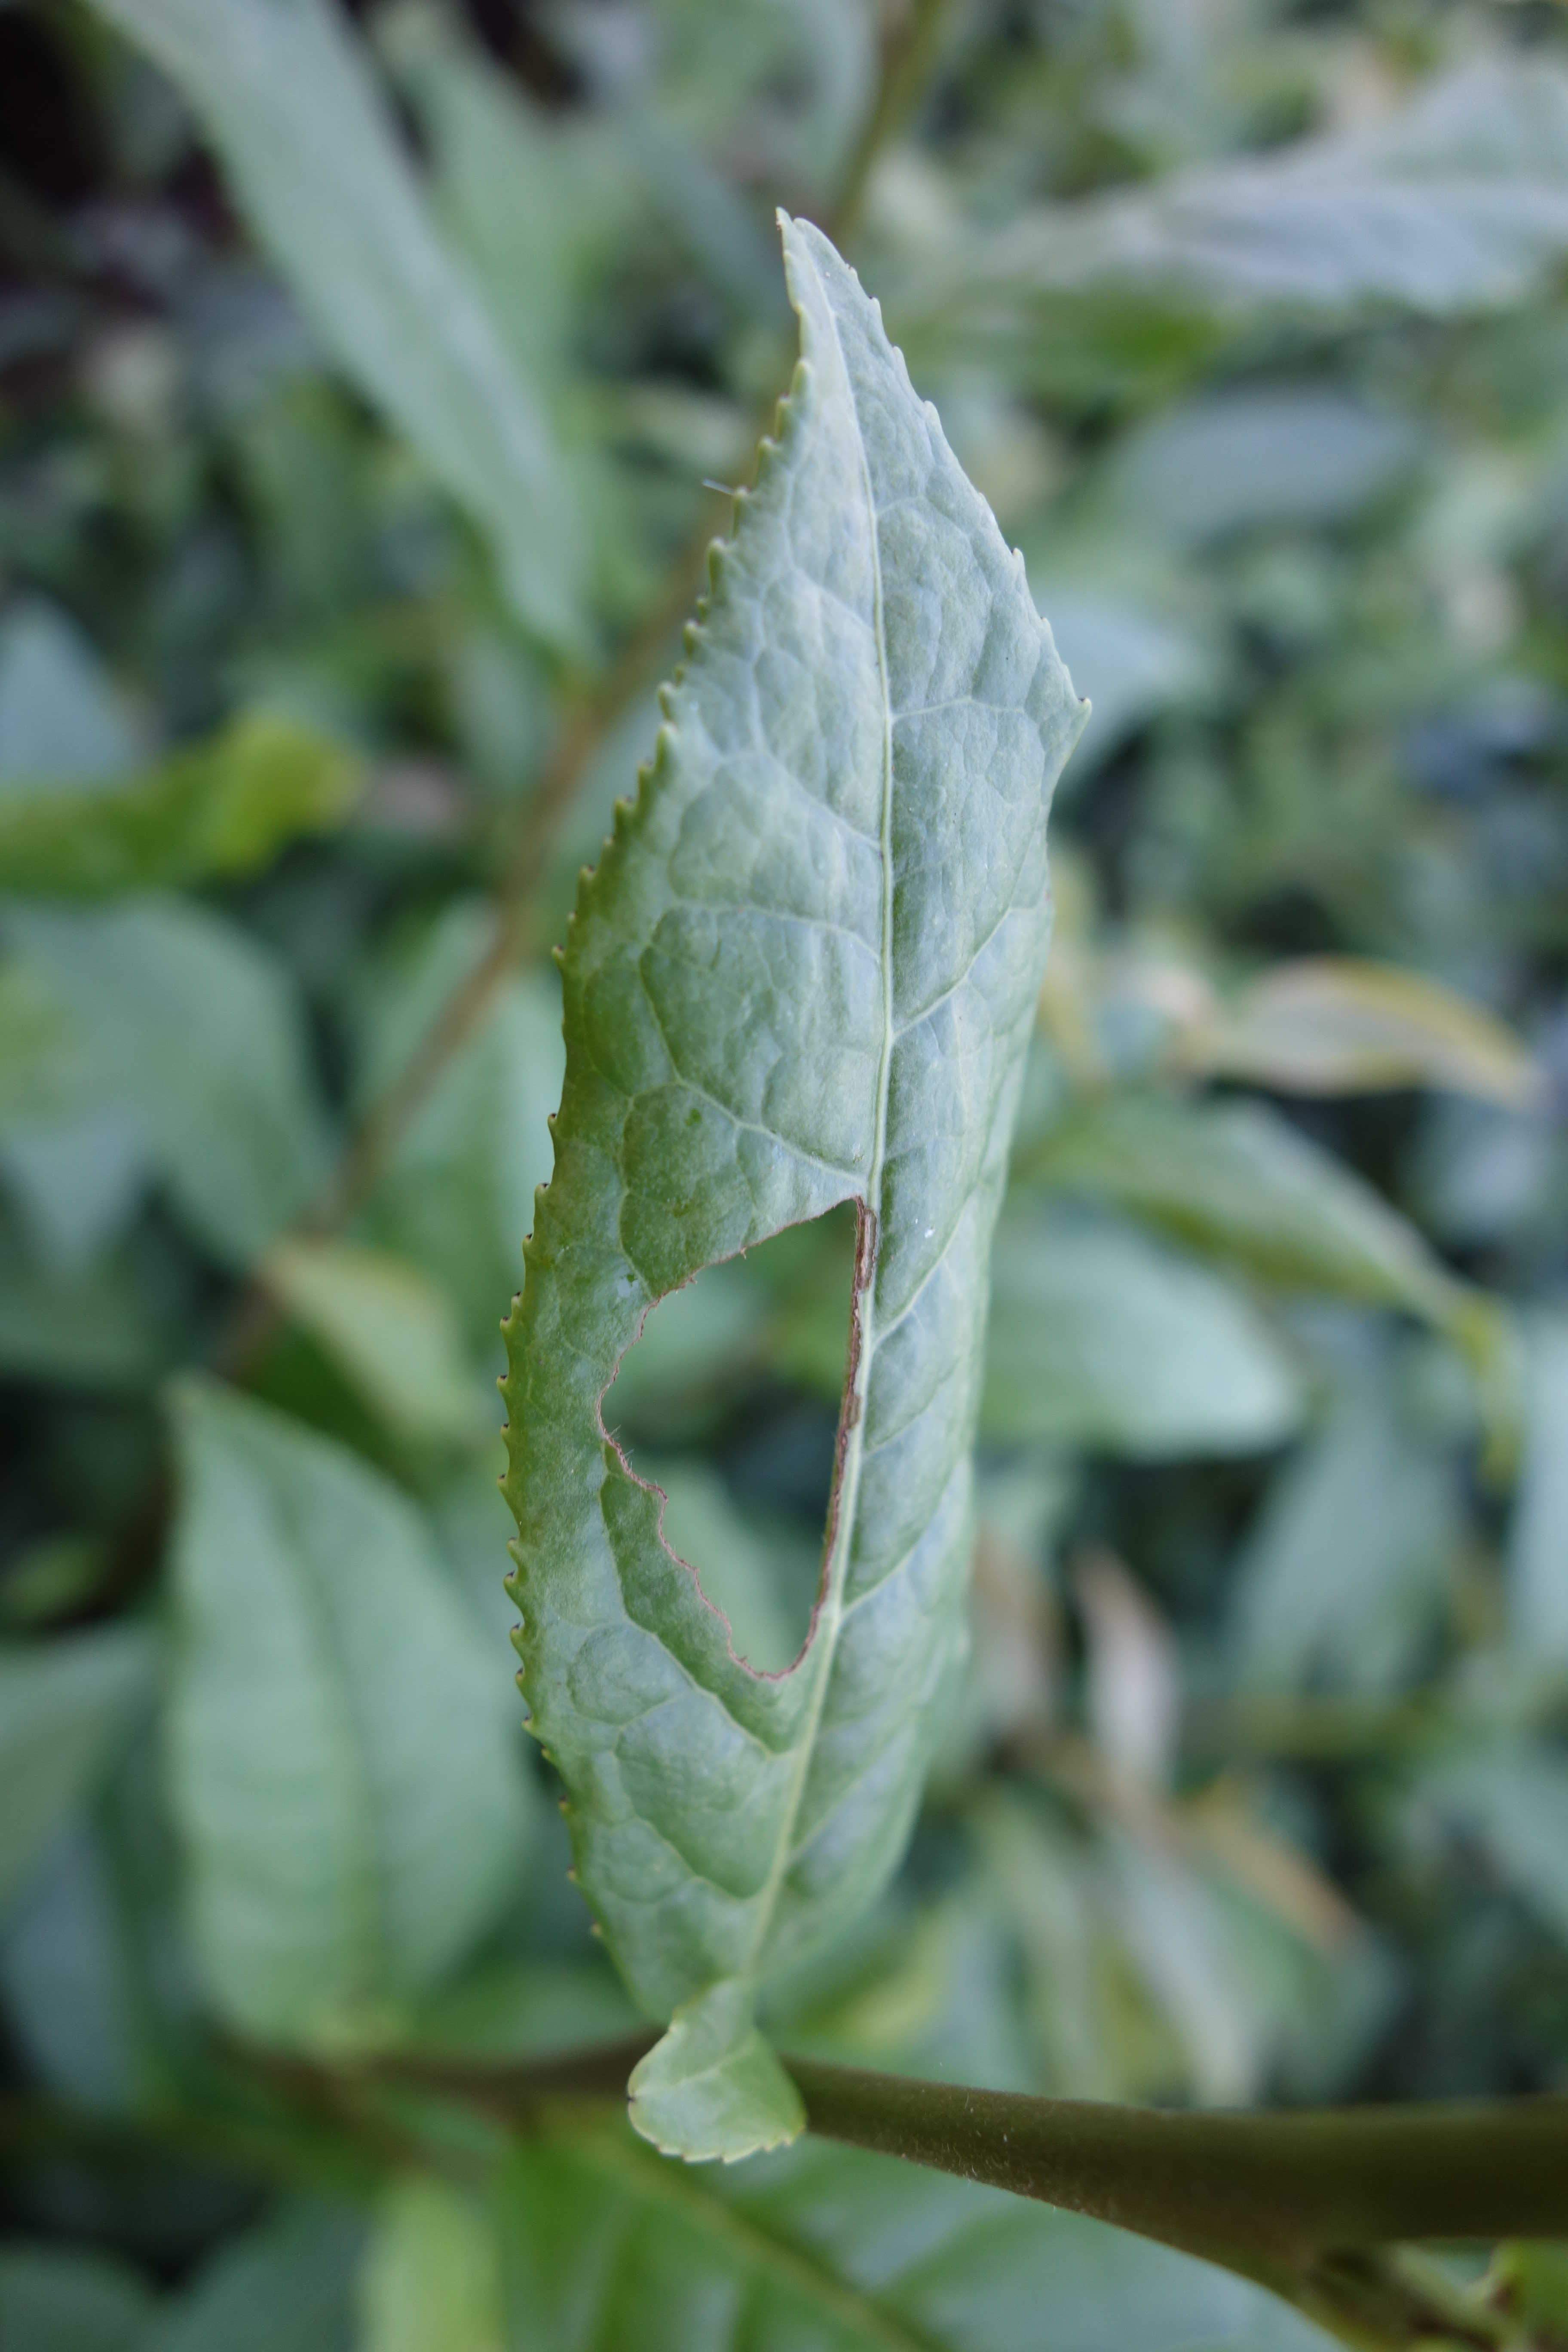chihuo_low: (495, 198, 1095, 2023)
